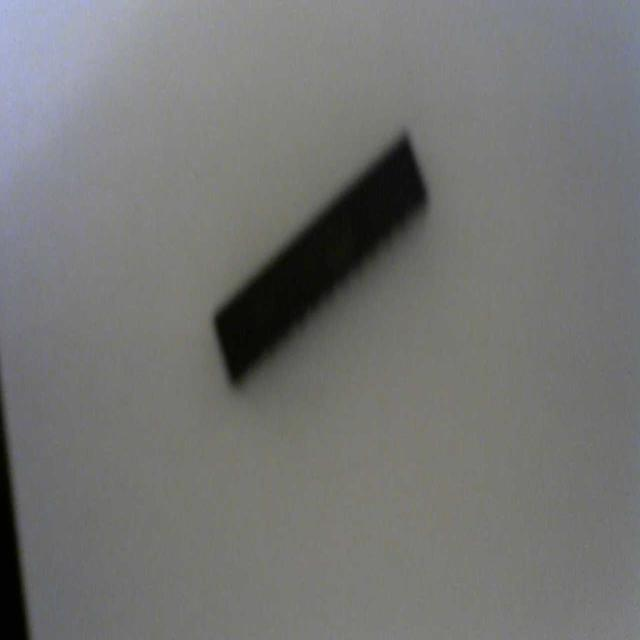atmega: (210, 126, 432, 390)
